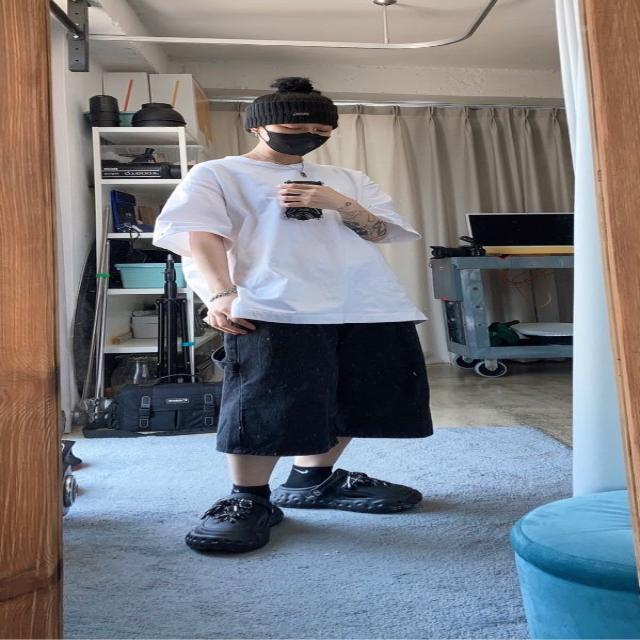shortpants: (209, 322, 442, 458)
shortsleeve: (154, 155, 431, 325)
